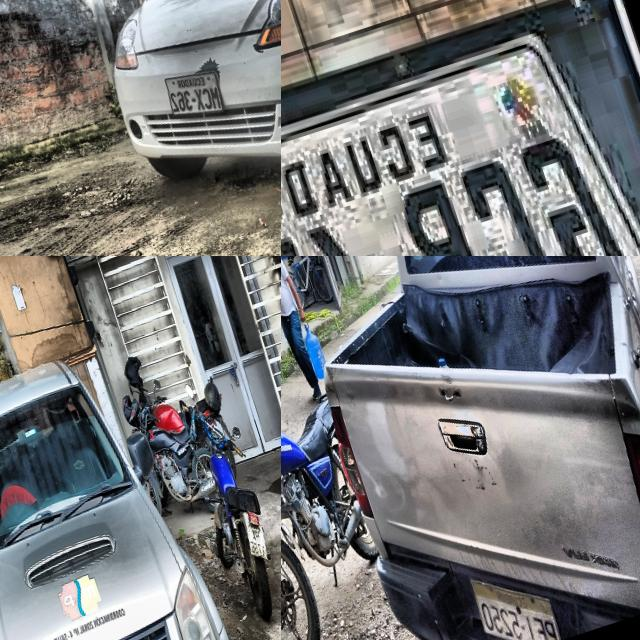license_plate: (281, 11, 640, 256), (469, 577, 561, 640), (164, 71, 225, 115)
